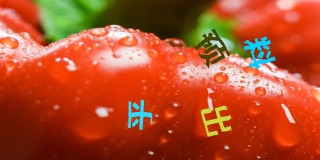乎: (126, 98, 154, 132)
出: (199, 101, 234, 138)
料: (243, 35, 275, 69)
预: (191, 27, 230, 69)
